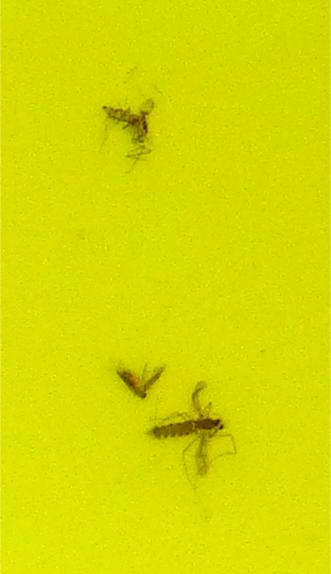Nematocera: (143, 375, 231, 474), (100, 100, 155, 166)
Trichoptera: (116, 365, 171, 403)
